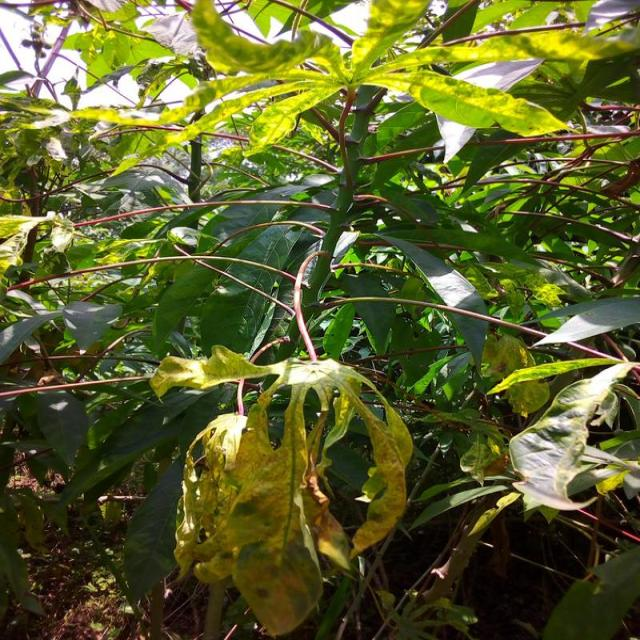cassava leaf: (1, 0, 638, 636), (160, 348, 413, 634)
